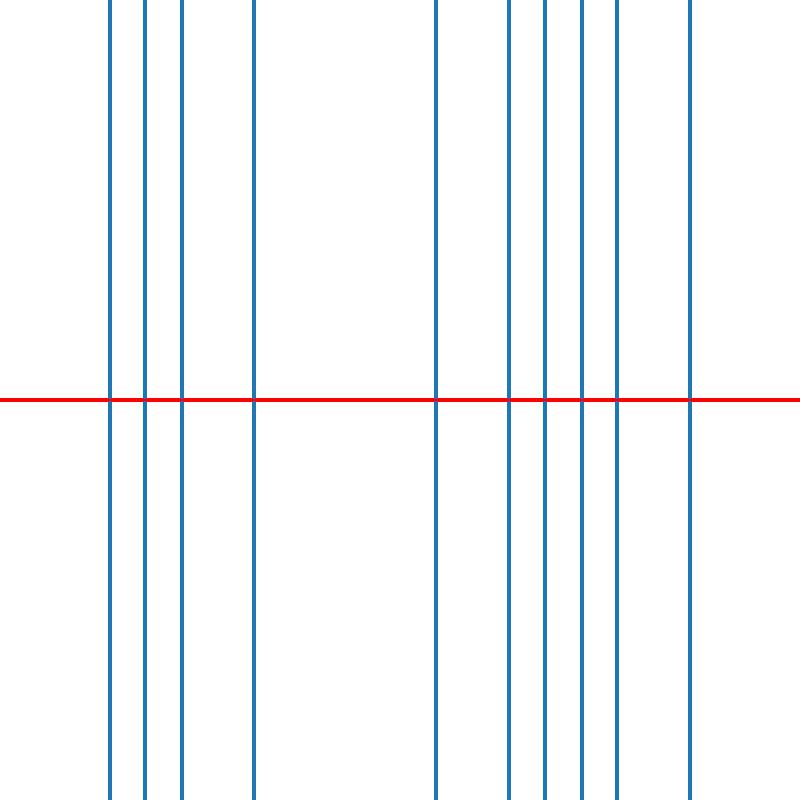root: (250, 396, 258, 404), (432, 396, 440, 404), (141, 396, 149, 404), (541, 396, 549, 404), (687, 396, 694, 404), (614, 396, 621, 404), (578, 396, 585, 404), (105, 396, 112, 404), (178, 396, 185, 404), (505, 396, 512, 404)
